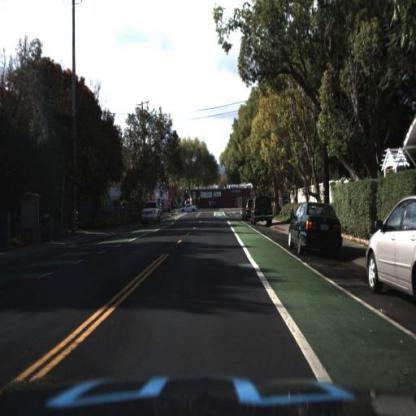car: (367, 194, 416, 304), (287, 200, 344, 264), (251, 196, 276, 228), (140, 201, 161, 226), (179, 201, 198, 217)
